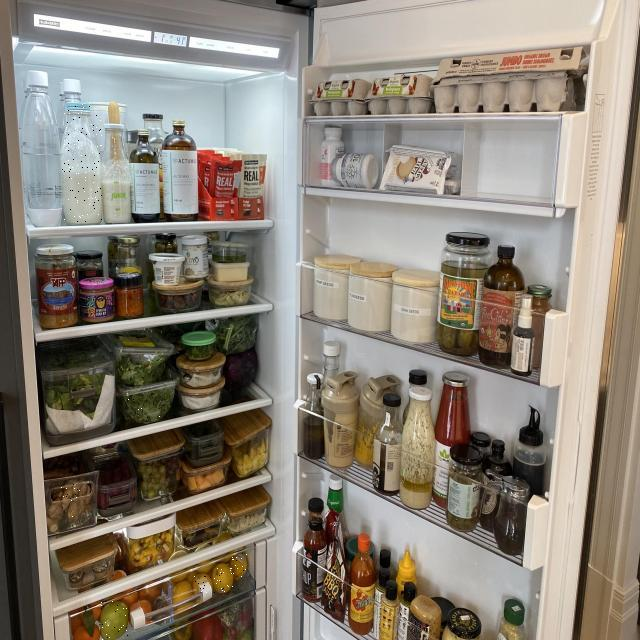apple: (100, 601, 128, 640)
ginger: (61, 480, 80, 508), (67, 502, 79, 522), (47, 520, 59, 534)
lemon: (213, 564, 234, 593), (230, 553, 247, 579), (174, 580, 192, 602), (194, 573, 212, 594)
milk: (62, 102, 102, 222)
parsley: (128, 396, 164, 419)
